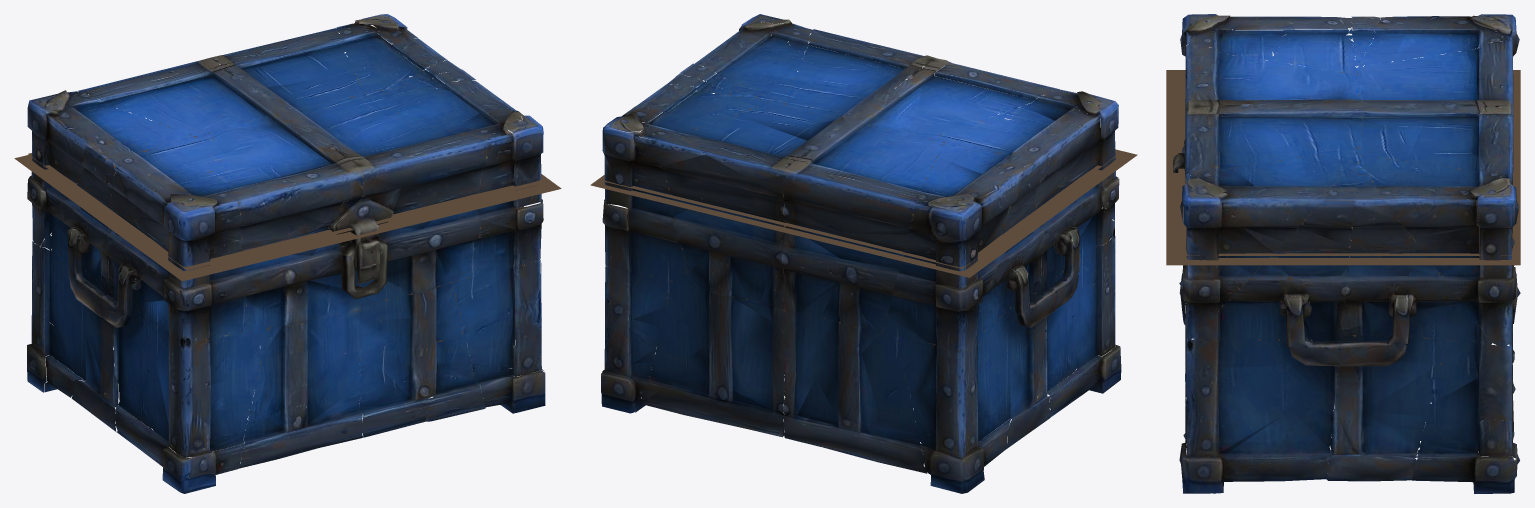
File: bau_epico.glb
3 views of the same model, side by side, from view 1: azimuth 30°, elevation 25°; view 2: azimuth 150°, elevation 25°; view 3: azimuth 270°, elevation 25° (orthographic). The views are drawn at different scales.
Parts seen in each view (by area): view 1: Bau_base, Bau_tampa; view 2: Bau_base, Bau_tampa; view 3: Bau_tampa, Bau_base.
Part boxes in pixels (x1,y1,x2,y2): Bau_base: (14, 79, 561, 493); Bau_tampa: (27, 14, 546, 270); Bau_base: (590, 82, 1137, 493); Bau_tampa: (602, 14, 1121, 268); Bau_tampa: (1173, 14, 1519, 257); Bau_base: (1166, 70, 1520, 493).
Size of the model in its own units: 0.8719 by 0.62 by 0.6686.
2 materials, 1 textured.
